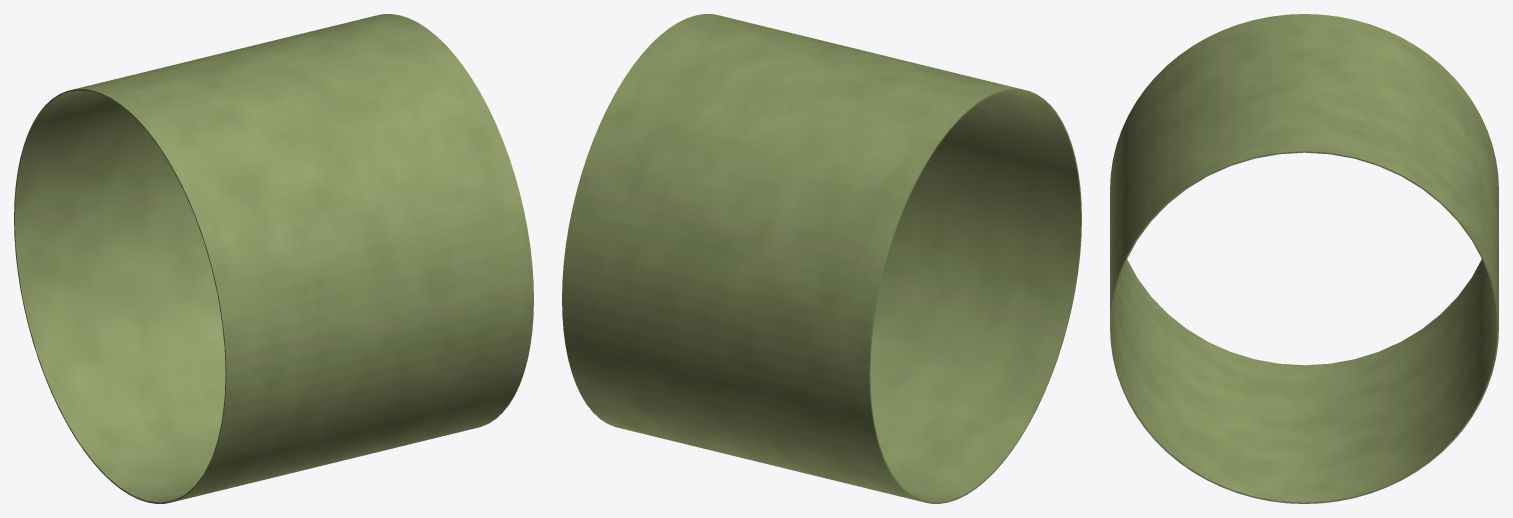
Rendered from G10_Inner.glb.
The picture shows the model from 3 angles, left to right: view 1: azimuth 30°, elevation 25°; view 2: azimuth 150°, elevation 25°; view 3: azimuth 270°, elevation 25°; orthographic projection. The views are drawn at different scales.
Parts seen in each view (by area): view 1: New_HPM_G10_Inner_5Aug2024; view 2: New_HPM_G10_Inner_5Aug2024; view 3: New_HPM_G10_Inner_5Aug2024.
Part boxes in pixels (box(x1,y1,x2,y2)): New_HPM_G10_Inner_5Aug2024: box(14, 14, 533, 503); New_HPM_G10_Inner_5Aug2024: box(562, 14, 1081, 503); New_HPM_G10_Inner_5Aug2024: box(1110, 14, 1498, 503).
Bounding box in the file's own units: 0.46 × 0.55 × 0.55.
Materials: 1 (1 with a texture image).
